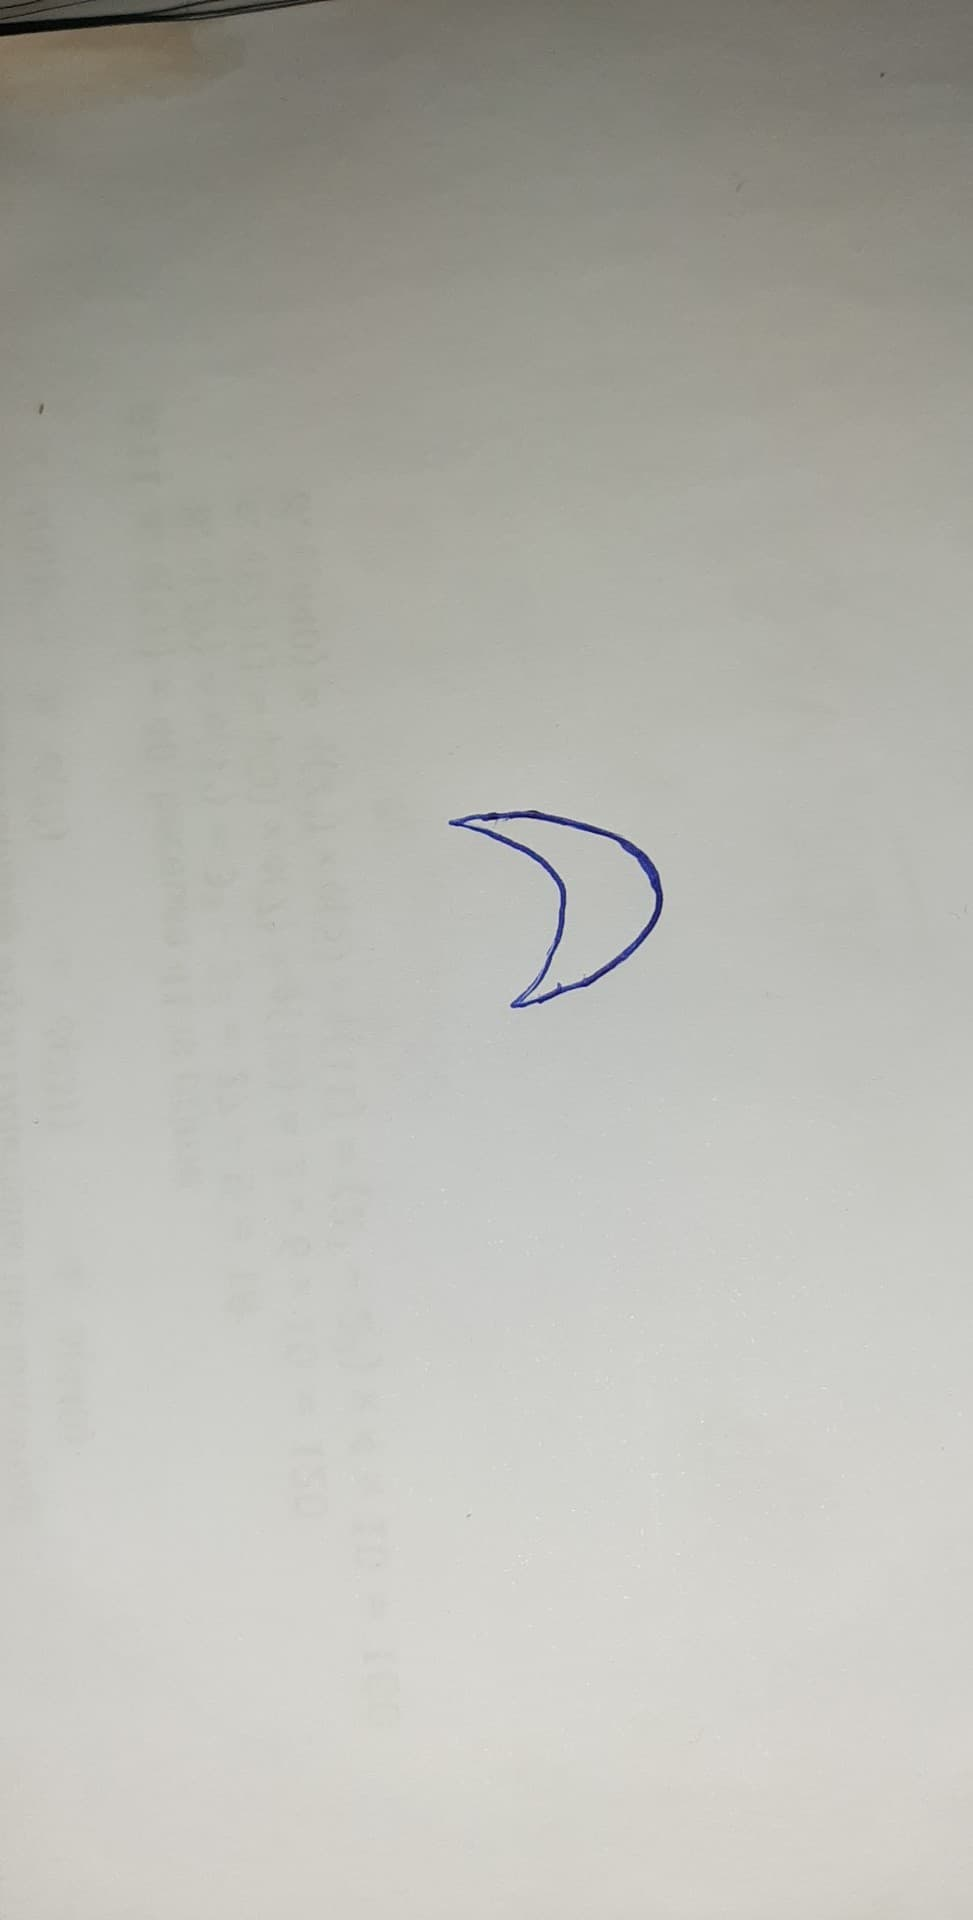or: (448, 798, 694, 1020)
